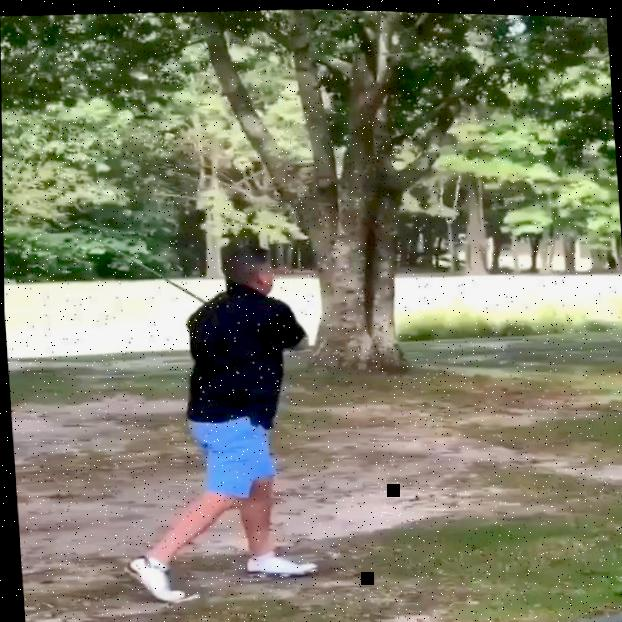ClubHead: (62, 220, 78, 231)
